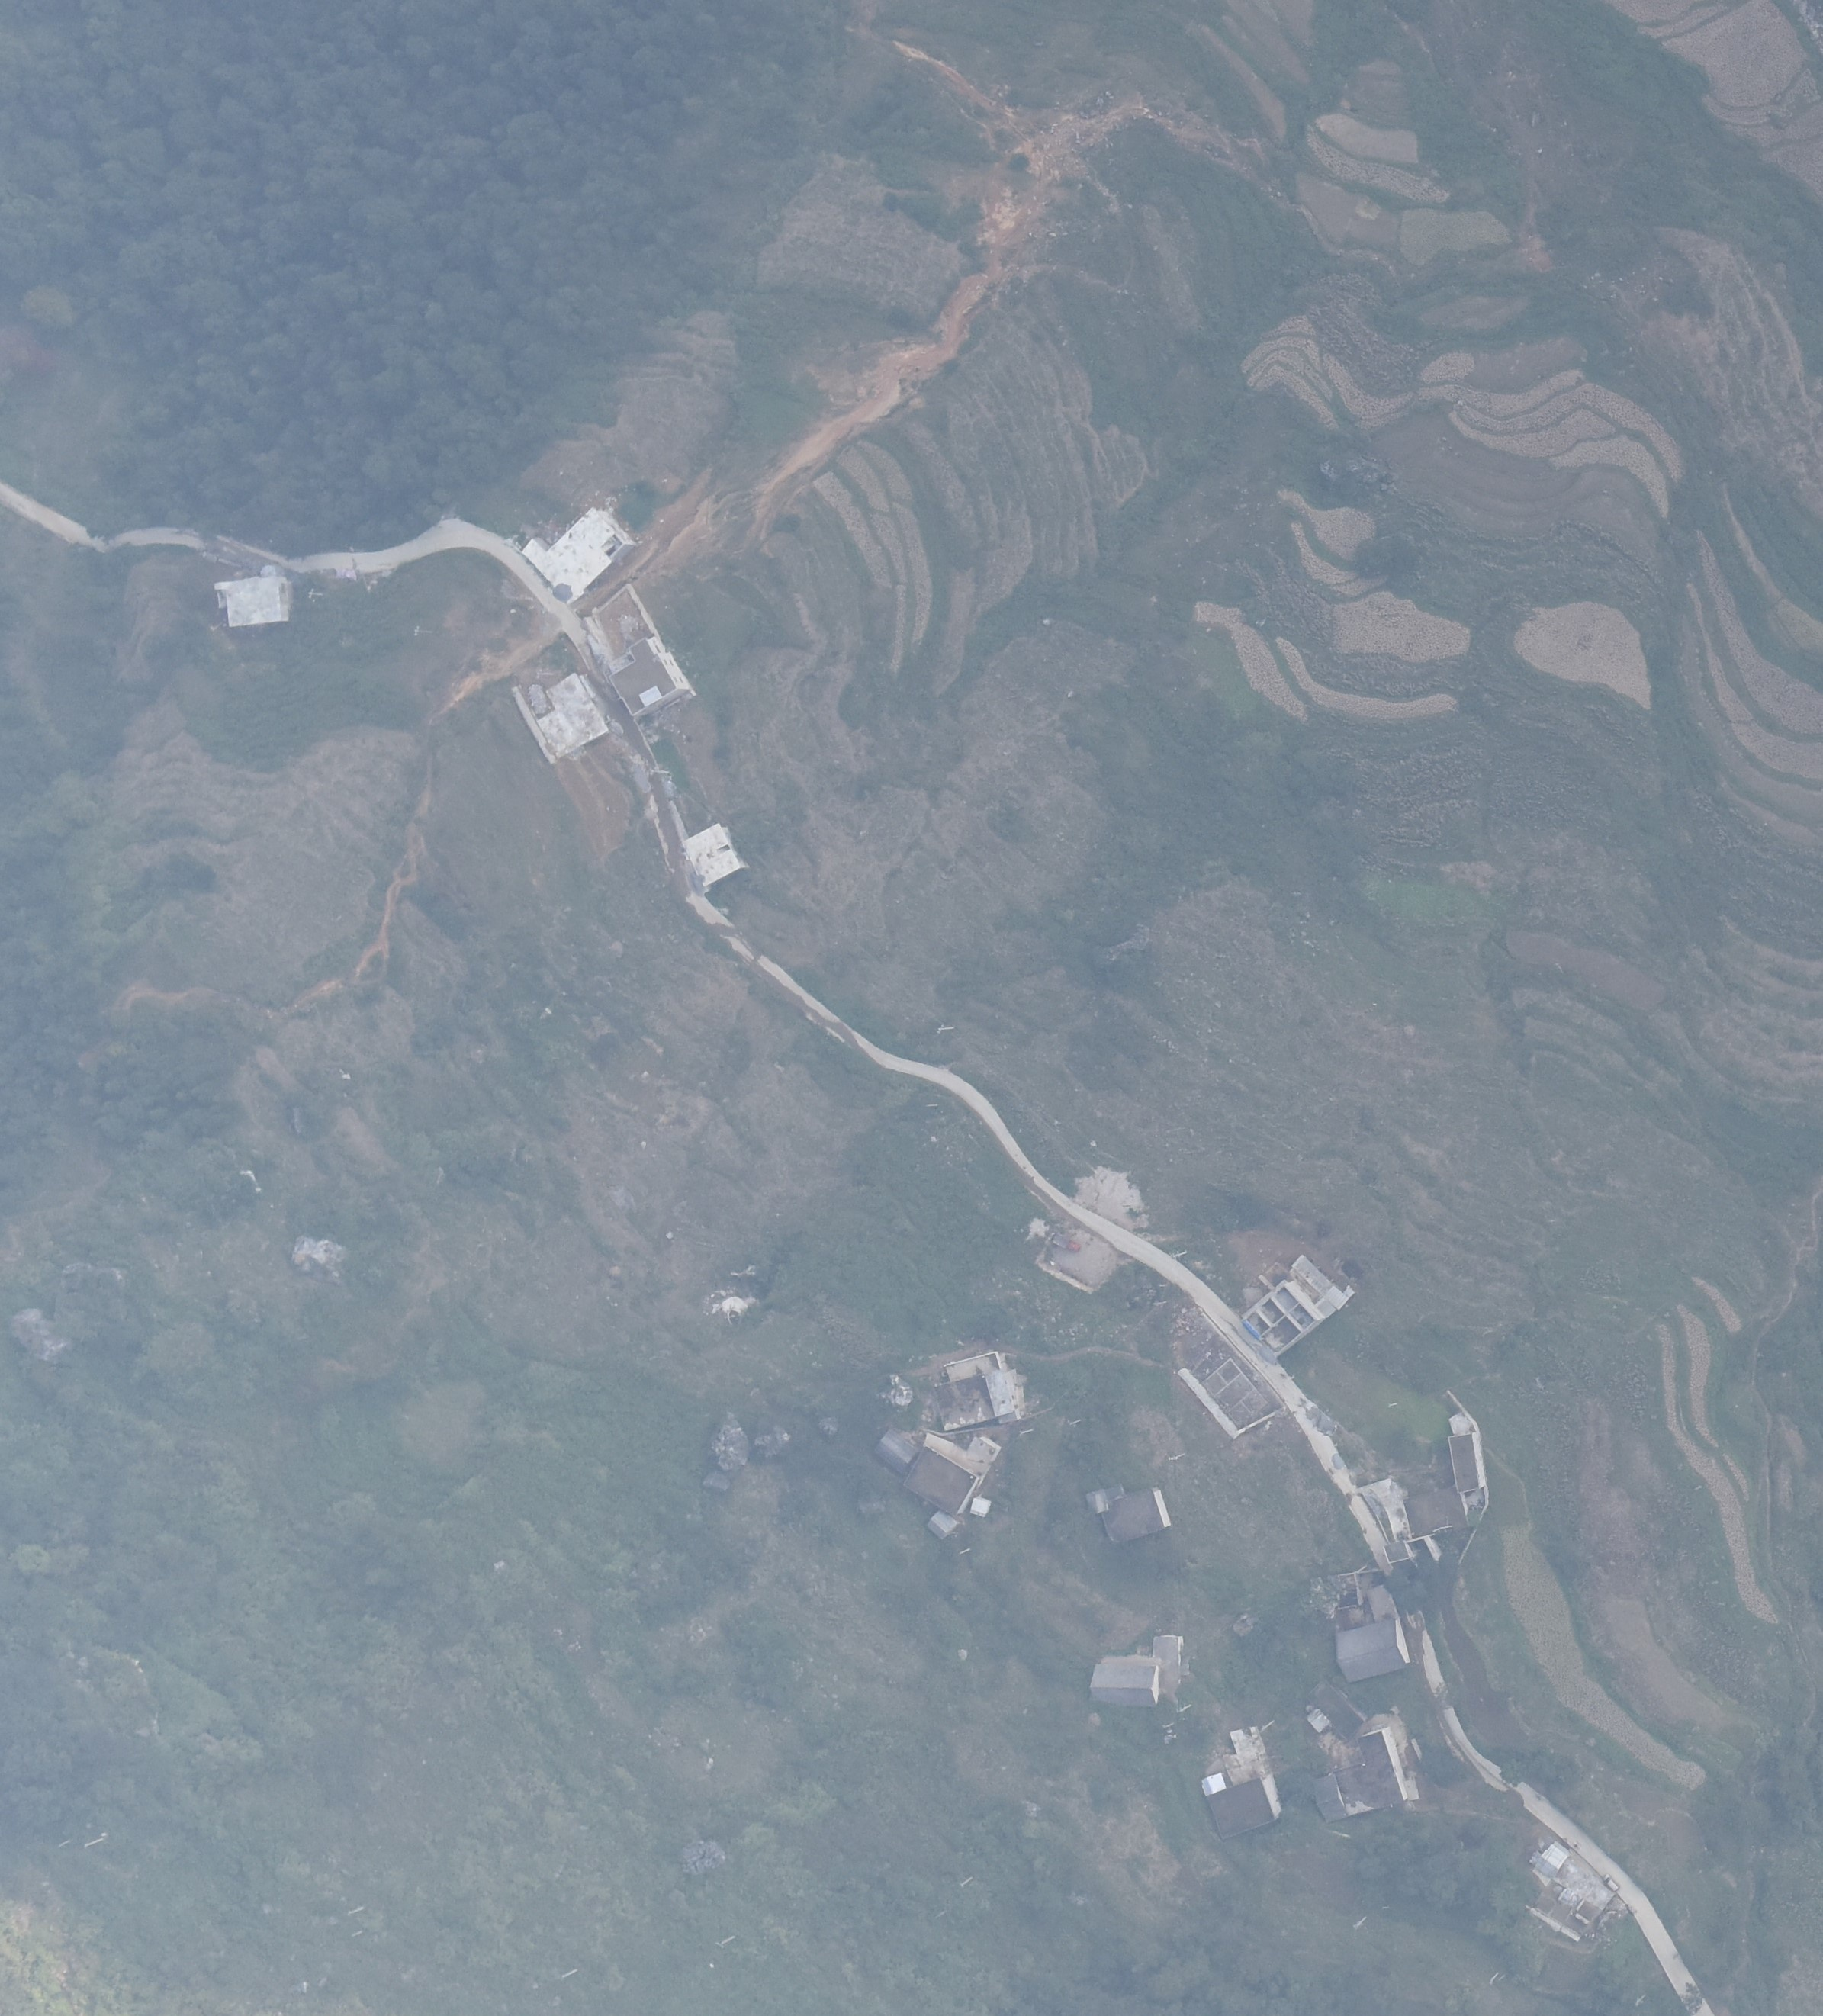building: (515, 506, 643, 608), (525, 670, 620, 769), (1235, 1277, 1336, 1368), (606, 635, 691, 722), (926, 1370, 1030, 1432), (901, 1442, 980, 1521), (1203, 1777, 1287, 1848), (676, 822, 754, 893), (1329, 1619, 1410, 1686), (212, 574, 294, 635), (1358, 1725, 1412, 1814), (1096, 1488, 1172, 1549), (1401, 1485, 1472, 1544), (1086, 1661, 1163, 1707), (1443, 1432, 1494, 1500), (1333, 1764, 1383, 1819), (1307, 1772, 1350, 1831), (871, 1428, 922, 1472), (1362, 1584, 1401, 1626), (924, 1508, 964, 1542), (1083, 1487, 1112, 1517), (1380, 1539, 1415, 1564), (966, 1494, 995, 1518), (1106, 1485, 1127, 1503)
prefabricated-house: (1532, 1839, 1570, 1883), (1195, 1770, 1232, 1798), (1307, 1705, 1333, 1735)
vehicle: (1050, 1229, 1085, 1256), (1601, 1873, 1624, 1894)
well: (260, 564, 289, 580)
